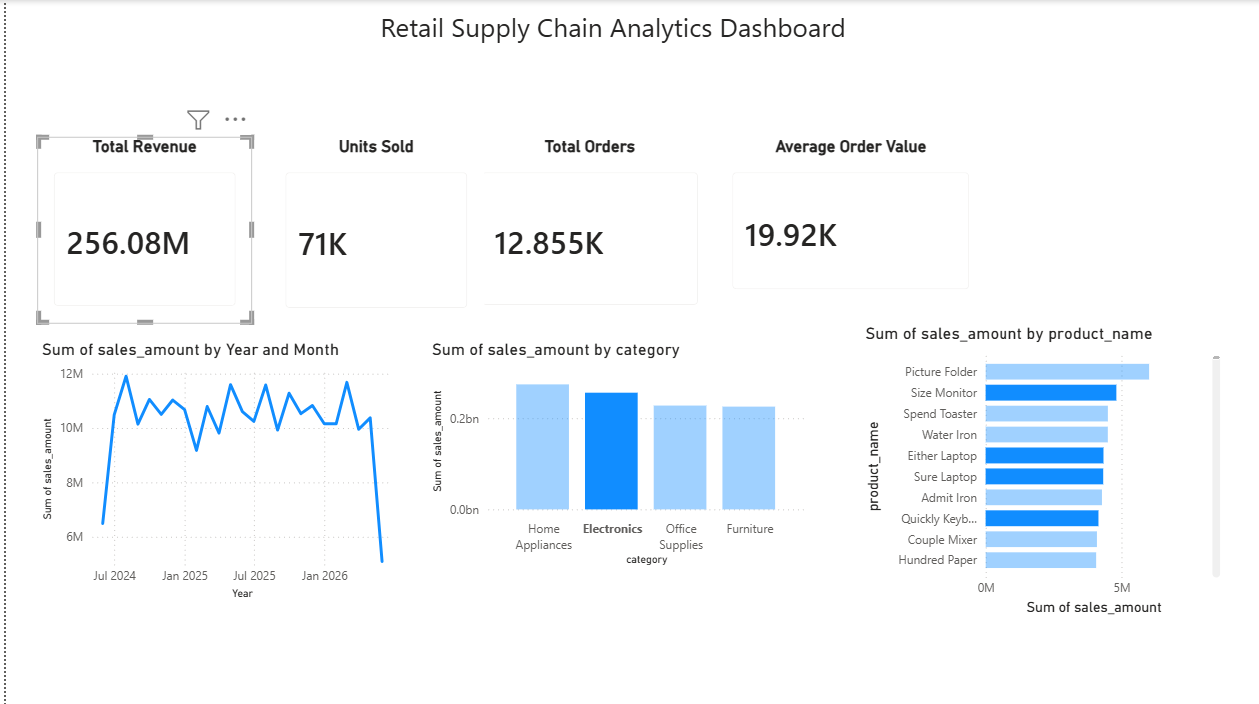

What the dashboard file says about the page in this screenshot:
{"tool":"powerbi","page":{"name":"Page 1","canvas":[1280,720],"ordinal":0},"visuals":[{"type":"cardVisual","title":"Total Revenue","fields":{"Data":["Sum(orders.sales_amount)"]},"box":[31.7,139.2,219.1,190.1],"z":0},{"type":"cardVisual","title":"Total Orders","fields":{"Data":["Count(orders.order_id)"]},"box":[467.7,139.7,254.2,188.3],"z":1000},{"type":"cardVisual","title":"Units Sold","fields":{"Data":["Sum(orders.quantity)"]},"box":[267.3,139.2,219.1,191.5],"z":2000},{"type":"cardVisual","title":"Average Order Value","fields":{"Data":["Avg(orders.sales_amount)"]},"box":[722,139.2,275.6,172.2],"z":3000},{"type":"lineChart","fields":{"Category":["orders.order_date.Variation.Date Hierarchy.Year","orders.order_date.Variation.Date Hierarchy.Month"],"Y":["Sum(orders.sales_amount)"]},"box":[31.4,345.3,368.8,268.4],"z":4000},{"type":"clusteredColumnChart","fields":{"Category":["products.category"],"Y":["Sum(orders.sales_amount)"]},"box":[428.4,345.3,389.2,233.8],"z":5000},{"type":"clusteredBarChart","fields":{"Y":["Sum(orders.sales_amount)"],"Category":["products.product_name"]},"box":[869.4,329.6,371.9,301.3],"z":5001},{"type":"textbox","box":[376.6,4.7,492.8,80],"z":5002}]}

Visuals, with their boxes in screenshot pixels (x1, y1, x2, y2), scaled from the page's 1280x720 canvas onto the 1259x704 screenshot:
"Total Revenue" cardVisual: bbox=(31, 136, 247, 322)
"Total Orders" cardVisual: bbox=(460, 137, 710, 321)
"Units Sold" cardVisual: bbox=(263, 136, 478, 323)
"Average Order Value" cardVisual: bbox=(710, 136, 981, 304)
lineChart - orders.order_date.Variation.Date Hierarchy.Year x orders.order_date.Variation.Date Hierarchy.Month: bbox=(31, 338, 394, 600)
clusteredColumnChart - products.category x Sum(orders.sales_amount): bbox=(421, 338, 804, 566)
clusteredBarChart - Sum(orders.sales_amount) x products.product_name: bbox=(855, 322, 1221, 617)
textbox: bbox=(370, 5, 855, 83)
